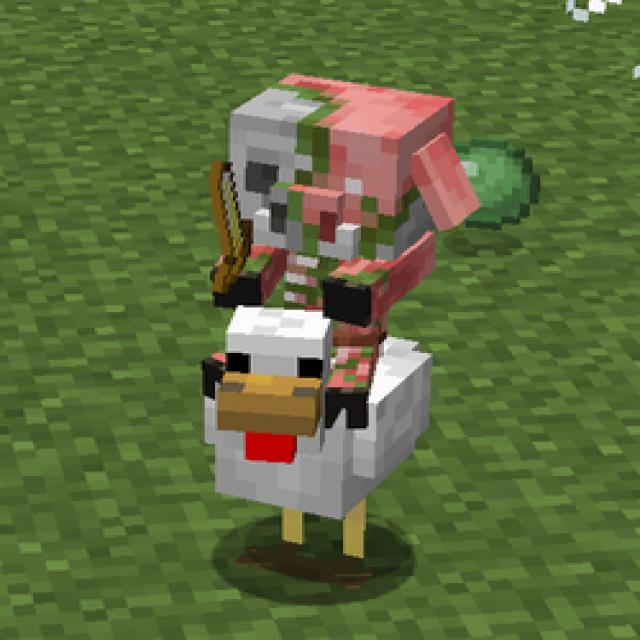Zombified Piglin: (201, 74, 477, 420)
